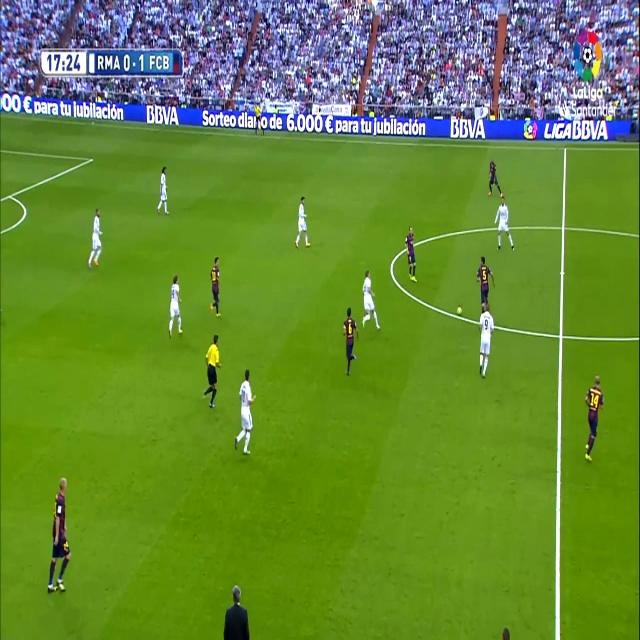bigarea_bottom_outter: (8, 188, 14, 202)
halfcircle_bottom: (554, 321, 568, 349)
halfcircle_top: (558, 213, 569, 240)
midline_top_intersection: (561, 142, 569, 156)
